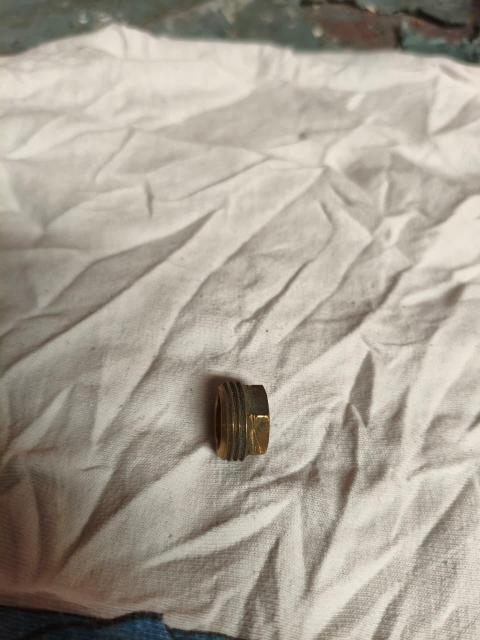Metal: (207, 372, 275, 465)
